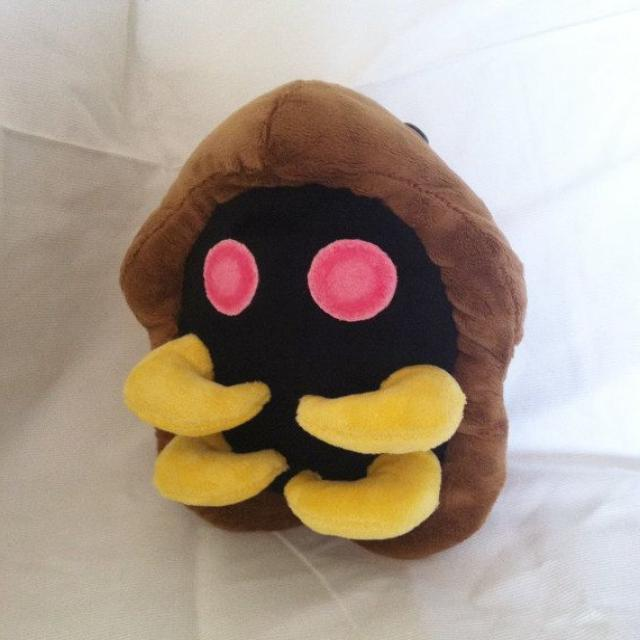Kabuto: (119, 74, 531, 548)
